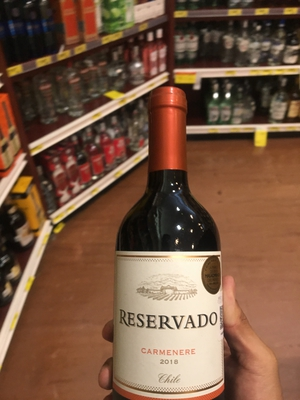reservado carmenere: (112, 79, 225, 400)
